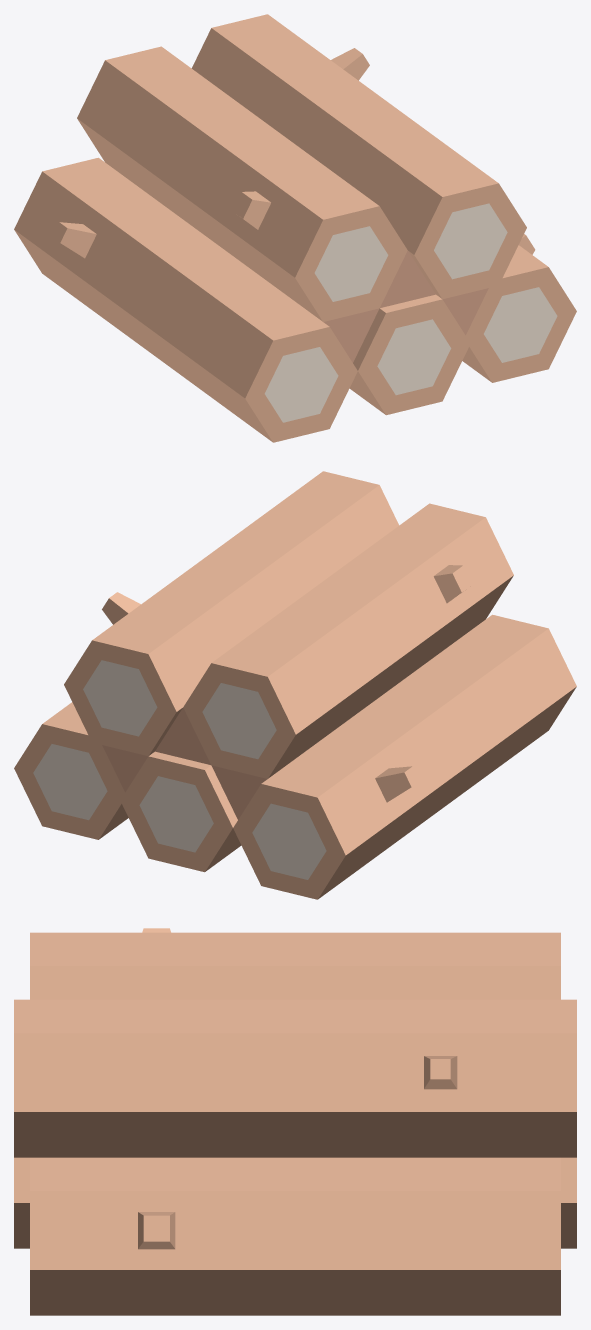
Rendered from log_stackLarge.fbx.
The picture shows the model from 3 angles, top to bottom: view 1: azimuth 30°, elevation 25°; view 2: azimuth 150°, elevation 25°; view 3: azimuth 270°, elevation 25°; orthographic projection. The views are drawn at different scales.
Parts seen in each view (by area): view 1: log_stackLarge_LOD0; view 2: log_stackLarge_LOD0; view 3: log_stackLarge_LOD0.
Boxes of the visible parts, x1,y1,x2,y2 form: log_stackLarge_LOD0: (14, 14, 576, 442); log_stackLarge_LOD0: (14, 471, 576, 899); log_stackLarge_LOD0: (14, 928, 576, 1315).
Size of what is drawn, in the model's own units: 63.4 by 34.64 by 71.
